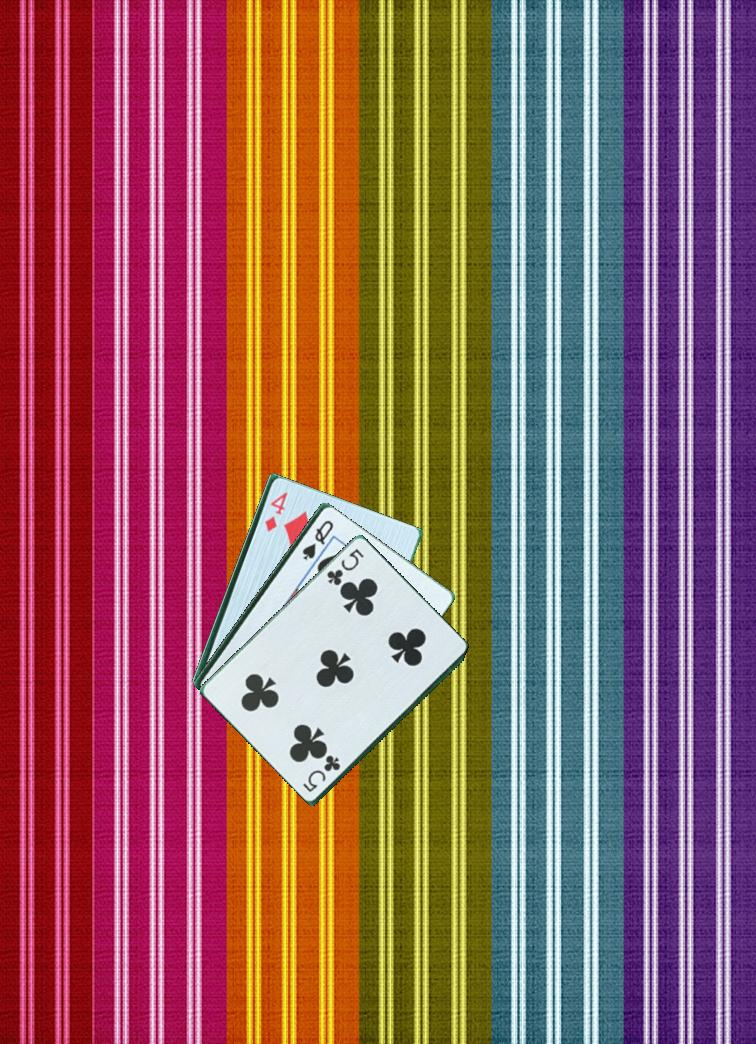4d: (260, 488, 290, 534)
5c: (320, 545, 367, 588), (297, 752, 343, 795)
qs: (299, 516, 336, 562)
